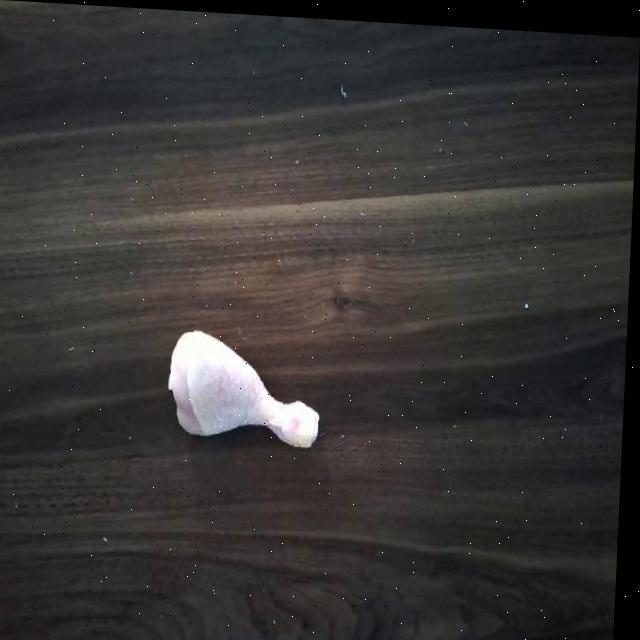leg: (159, 321, 334, 460)
